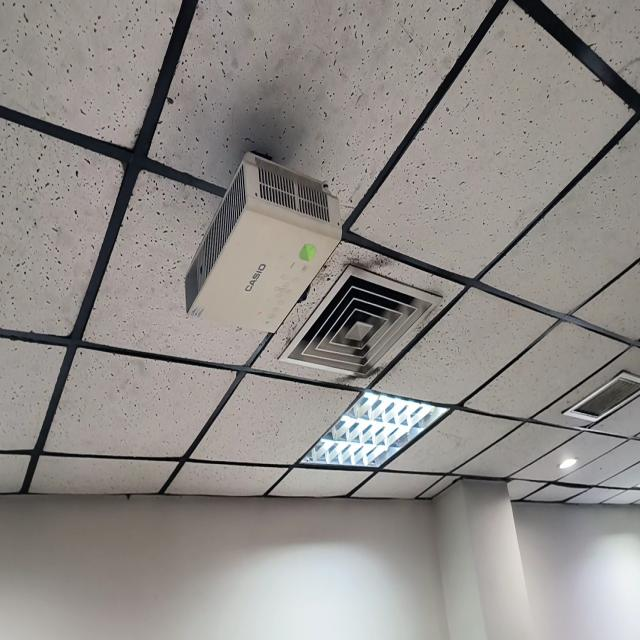Light: (301, 391, 447, 467), (559, 459, 577, 469)
Projector: (186, 152, 341, 332)
